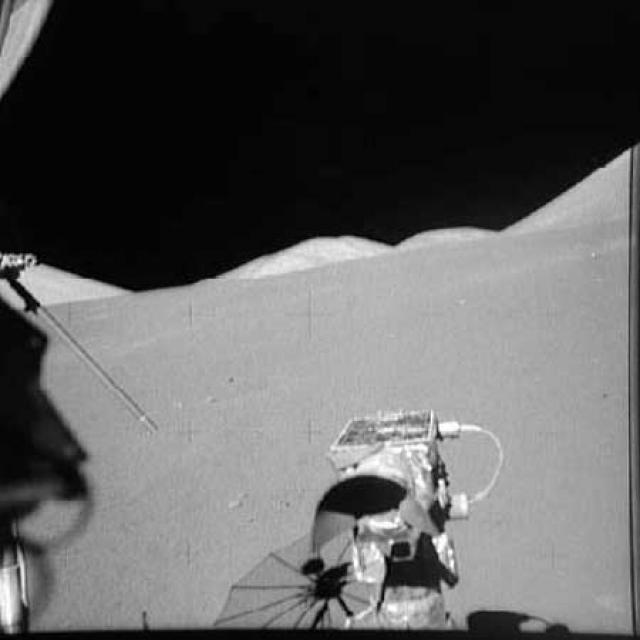artifact: (0, 1, 166, 632), (198, 397, 524, 639)
